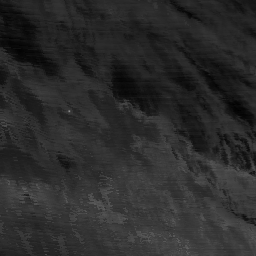Target: (66, 108, 71, 114)
